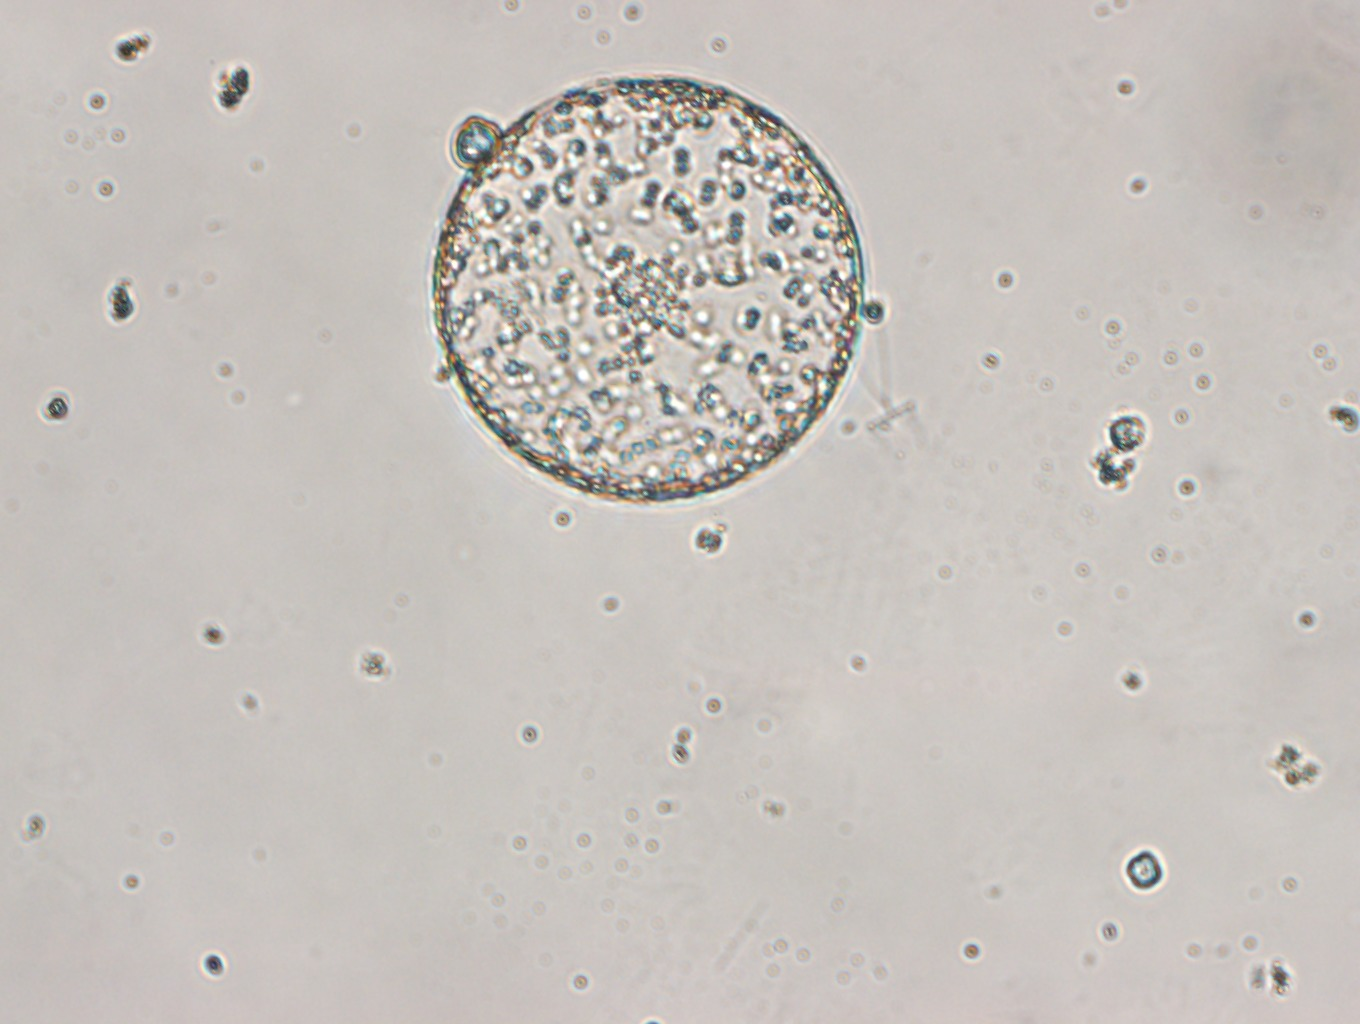coscinodiscus: (428, 75, 867, 503)
